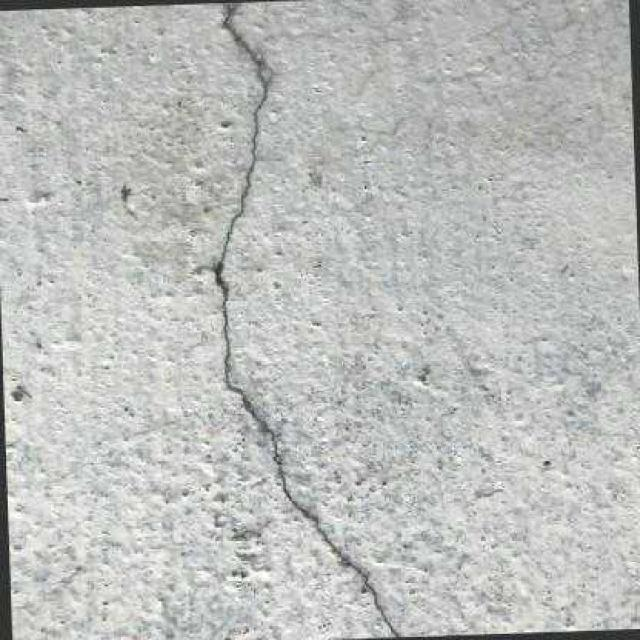D00: (214, 3, 398, 638)
